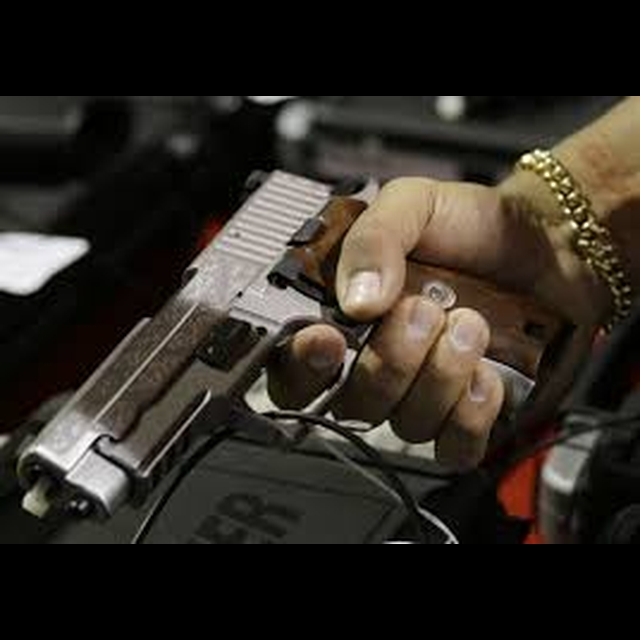SILAH: (5, 130, 566, 529)
